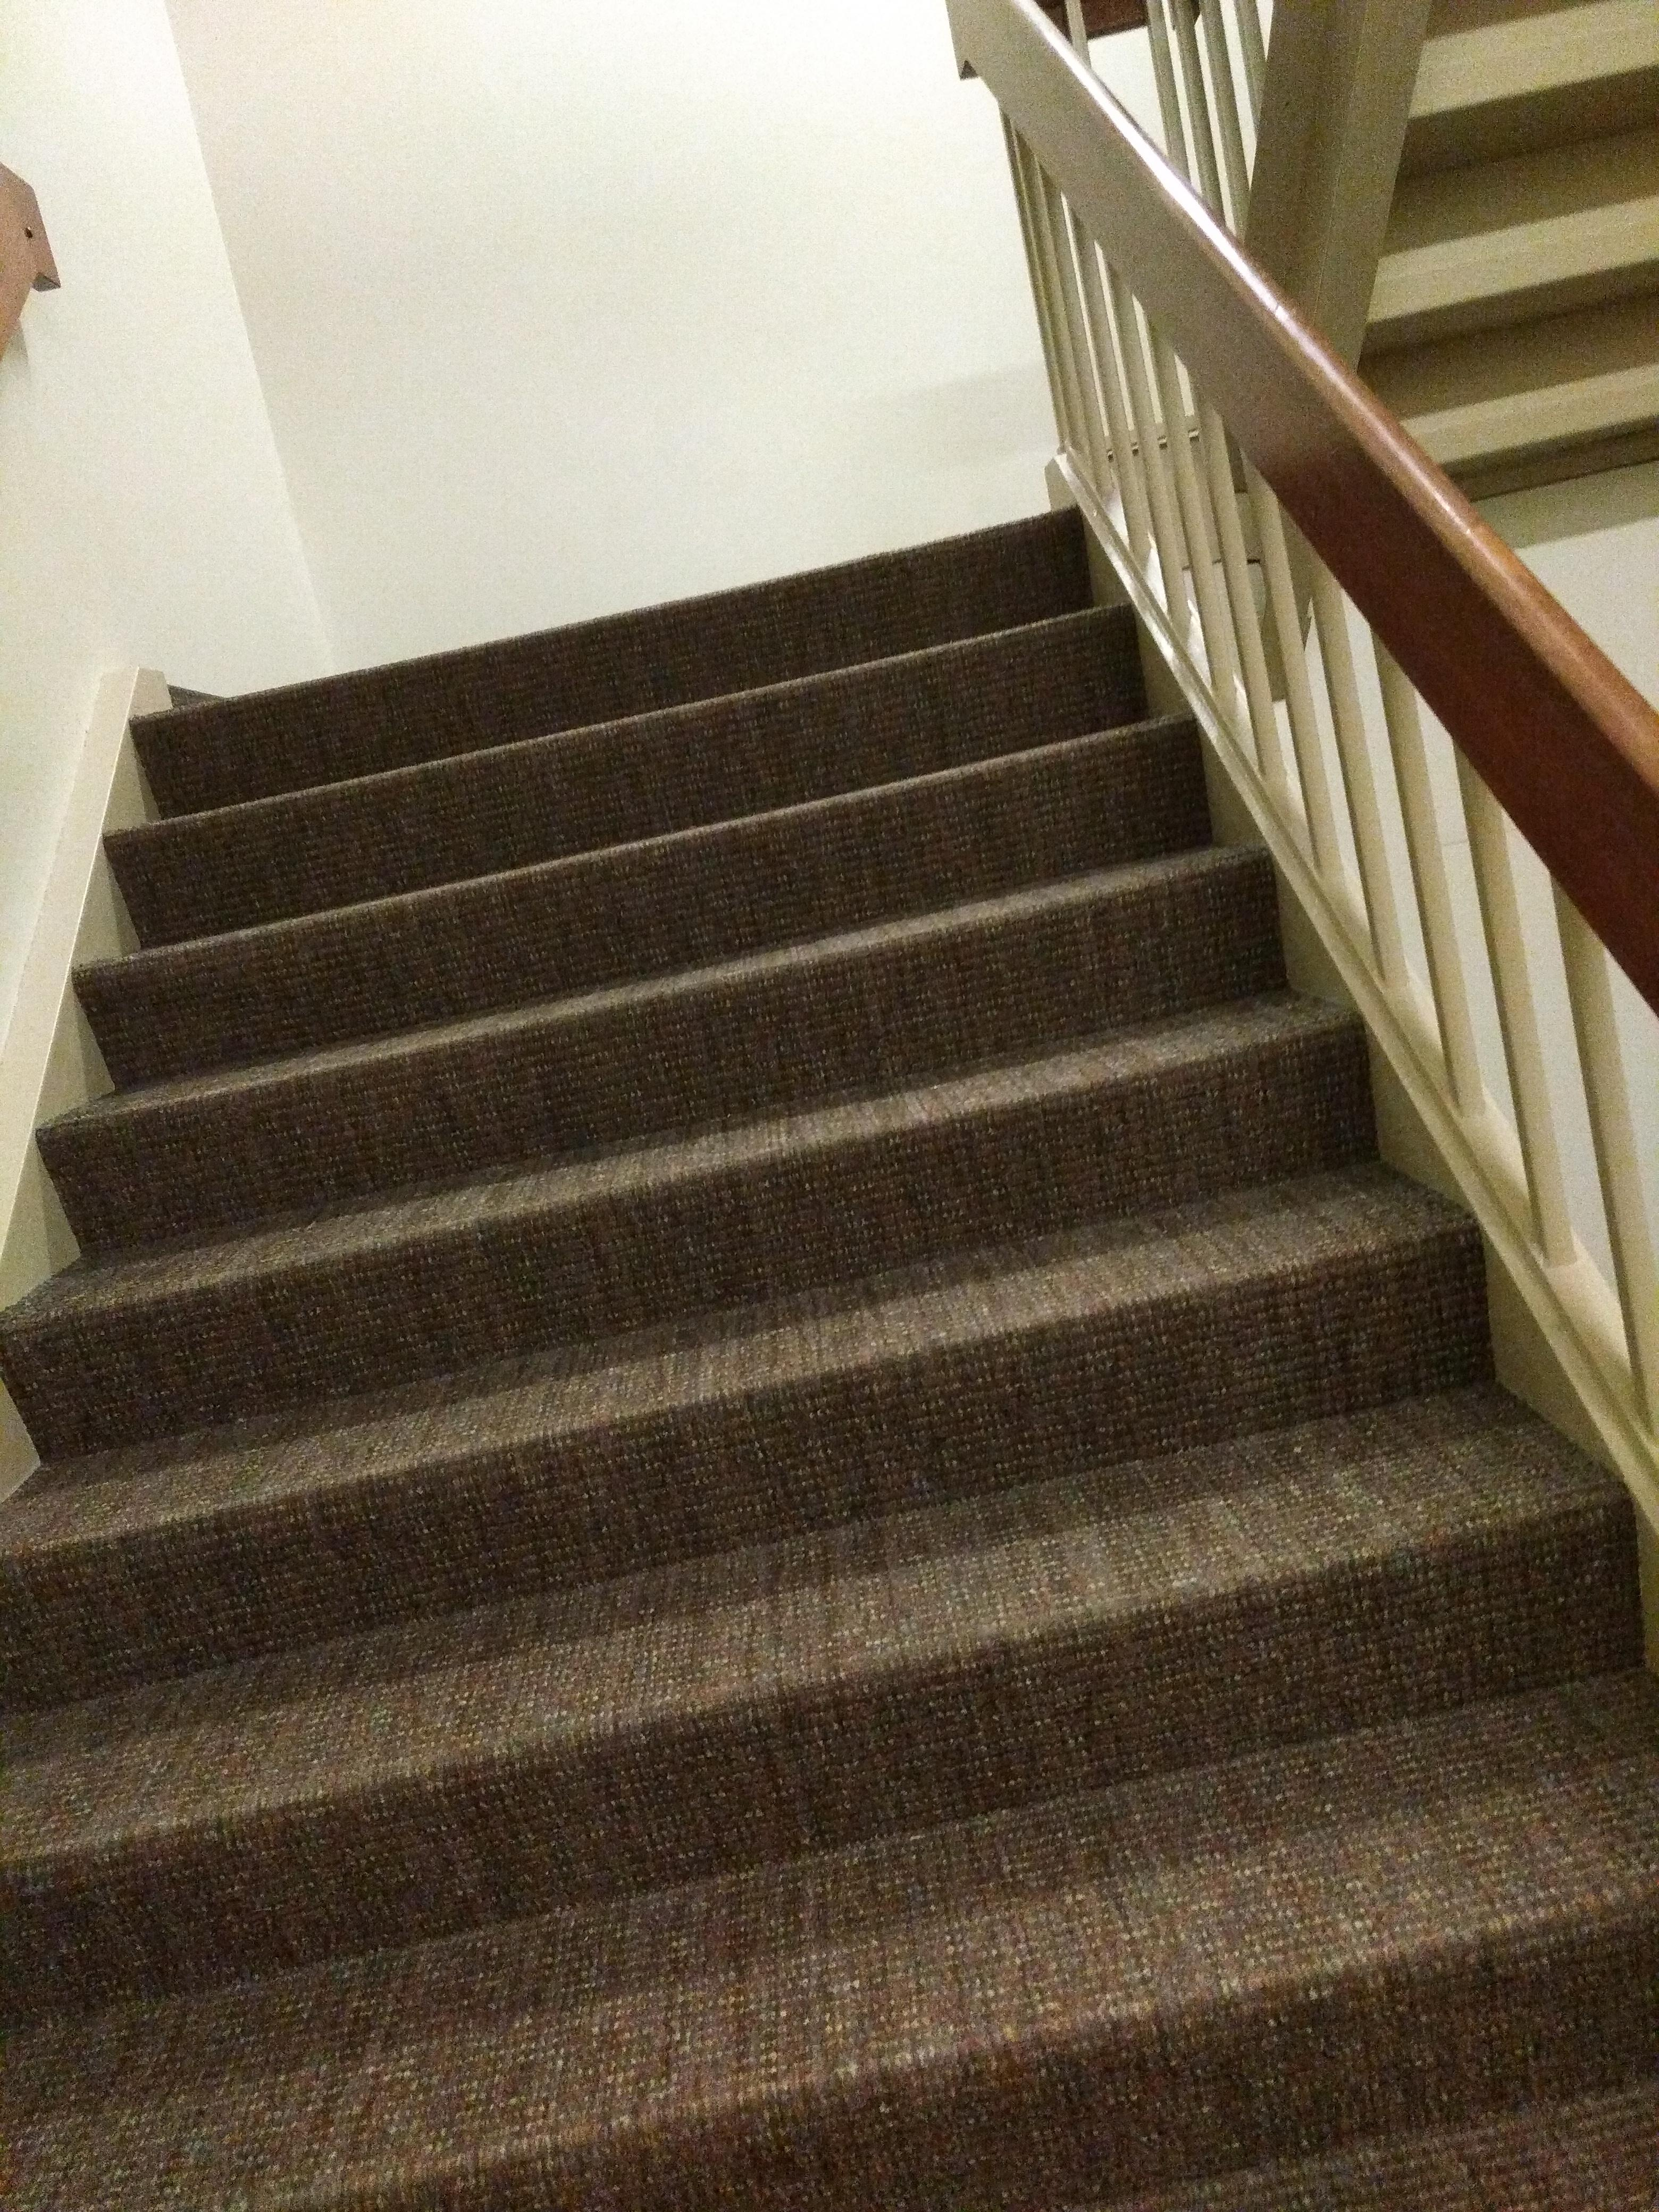stairs_up: (12, 498, 1659, 2212)
